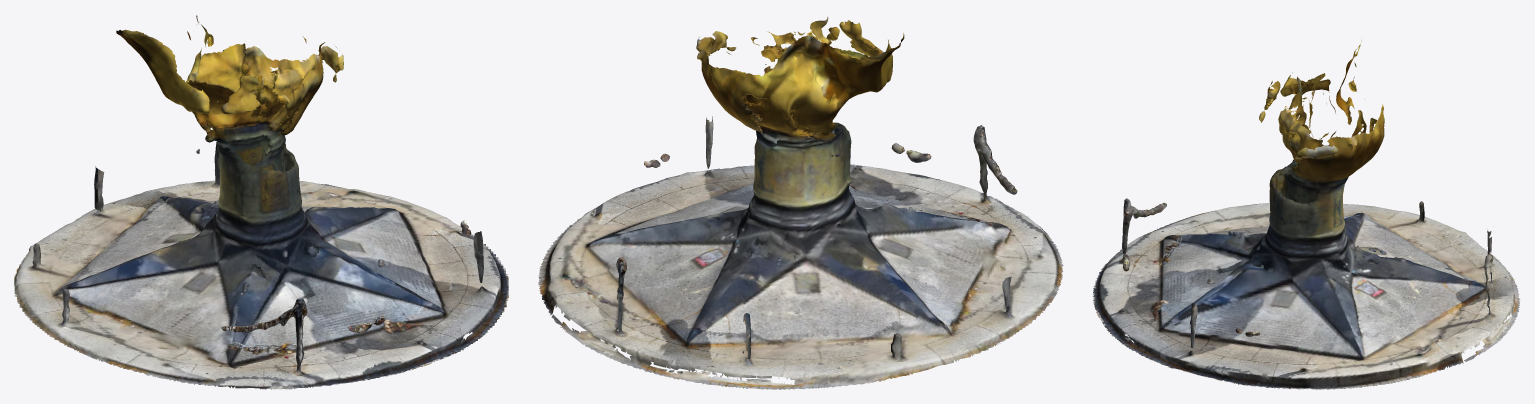
Rendered from lm-flamme.glb.
3 views of the same model, side by side, from view 1: azimuth 30°, elevation 25°; view 2: azimuth 150°, elevation 25°; view 3: azimuth 270°, elevation 25° (orthographic). The views are drawn at different scales.
Visible parts, largest first — view 1: flamme; view 2: flamme; view 3: flamme.
Boxes of the visible parts, bbox=[...] form: flamme: bbox=[14, 15, 508, 389]; flamme: bbox=[538, 16, 1063, 389]; flamme: bbox=[1092, 40, 1520, 389].
Size of the model in its own units: 6.13 by 3.81 by 6.13.
Materials: 1 (1 with a texture image).
